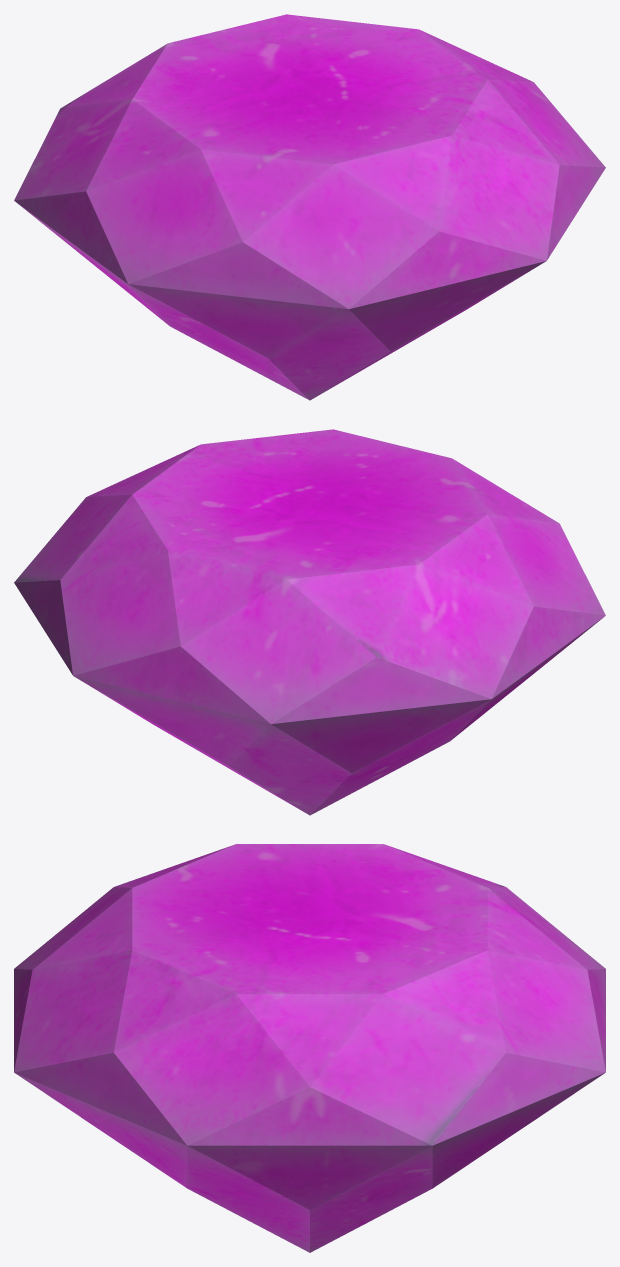
File: ametist.fbx
3 renders of one model, top to bottom at view 1: azimuth 30°, elevation 25°; view 2: azimuth 150°, elevation 25°; view 3: azimuth 270°, elevation 25°, orthographic. The views are drawn at different scales.
Parts seen in each view (by area): view 1: ametist; view 2: ametist; view 3: ametist.
Boxes of the visible parts, x1,y1,x2,y2 form: ametist: (14,14,605,400); ametist: (14,429,605,815); ametist: (14,844,605,1252).
Size of the model in its own units: 185 by 115 by 185.
